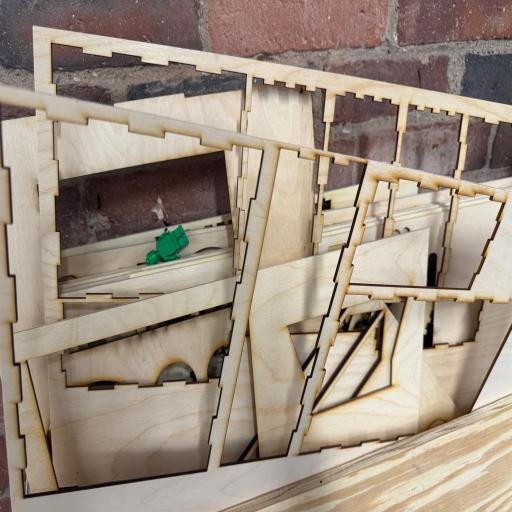Lego-Dude: (146, 225, 189, 265)
